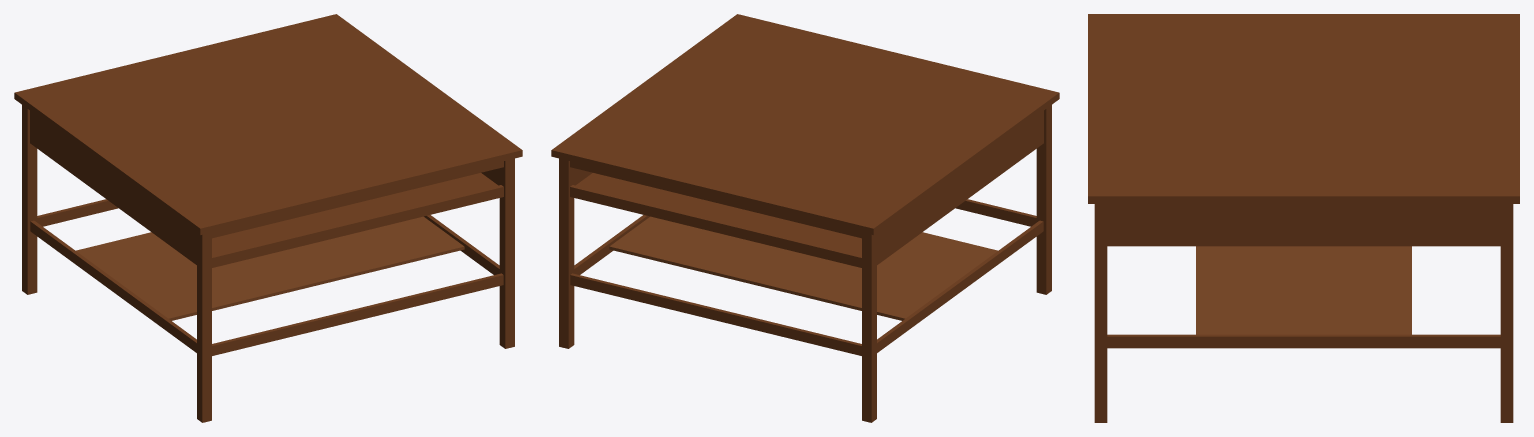
The model's file is Rectangular Tables.glb.
3 renders of one model, left to right at view 1: azimuth 30°, elevation 25°; view 2: azimuth 150°, elevation 25°; view 3: azimuth 270°, elevation 25°, orthographic. The views are drawn at different scales.
Visible parts, largest first — view 1: Cube (×13); view 2: Cube (×13); view 3: Cube (×6).
Boxes of the visible parts, left/top/right/bottom form: Cube (×13): left=14, top=14, right=522, bottom=422; Cube (×13): left=551, top=14, right=1059, bottom=422; Cube (×6): left=1088, top=14, right=1519, bottom=422.
Bounding box in the file's own units: 1.68 × 0.9825 × 1.68.
